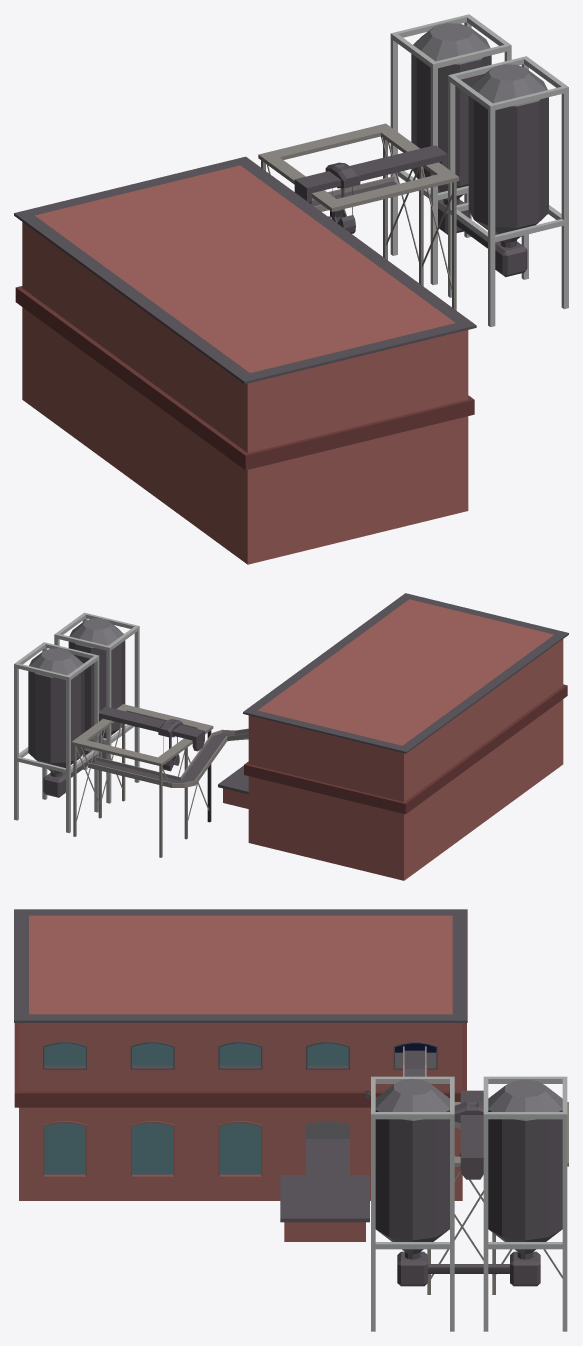
The model's file is brick_factory.fbx.
3 views of the same model, one above another, from view 1: azimuth 30°, elevation 25°; view 2: azimuth 150°, elevation 25°; view 3: azimuth 270°, elevation 25° (orthographic). The views are drawn at different scales.
Parts seen in each view (by area): view 1: brick_factory; view 2: brick_factory; view 3: brick_factory.
Part boxes in pixels (left/top/right/bottom): brick_factory: left=14, top=14, right=568, bottom=564; brick_factory: left=14, top=593, right=568, bottom=880; brick_factory: left=14, top=909, right=568, bottom=1331.
Size of the model in its own units: 459 by 202 by 443.
